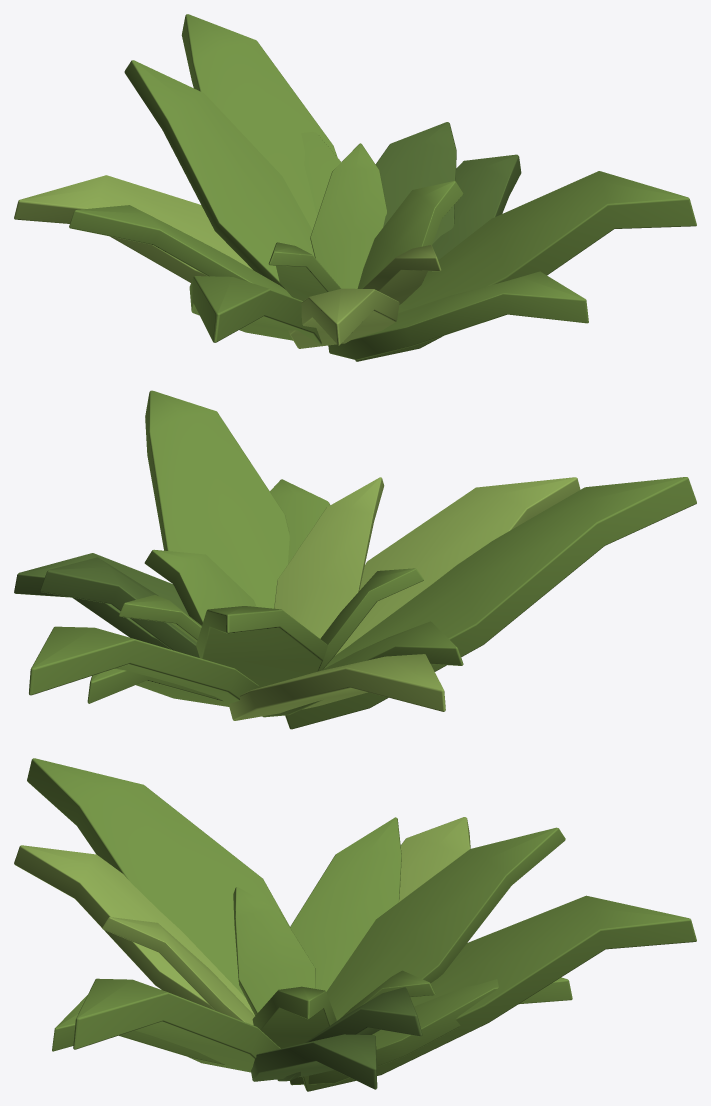
Rendered from grass_hero_cluster.glb.
3 renders of one model, top to bottom at view 1: azimuth 30°, elevation 25°; view 2: azimuth 150°, elevation 25°; view 3: azimuth 270°, elevation 25°, orthographic. The views are drawn at different scales.
Visible parts, largest first — view 1: grass_hero_cluster; view 2: grass_hero_cluster; view 3: grass_hero_cluster.
Part boxes in pixels (x1,y1,x2,y2): grass_hero_cluster: (14, 14, 696, 361); grass_hero_cluster: (14, 390, 696, 729); grass_hero_cluster: (14, 758, 696, 1091).
Bounding box in the file's own units: 0.3391 × 0.1331 × 0.3982.
